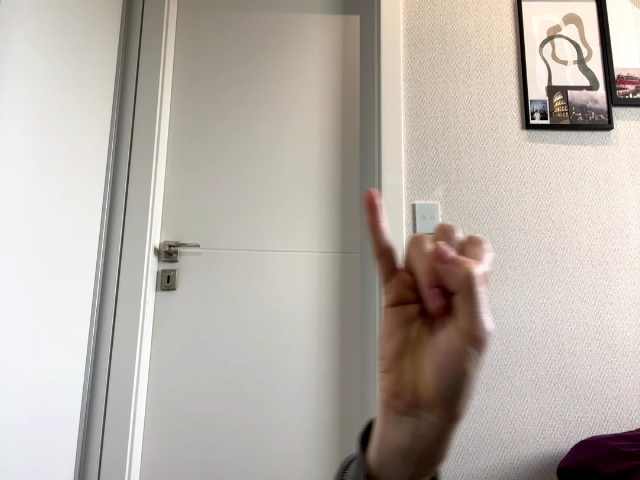I: (365, 188, 496, 405)
